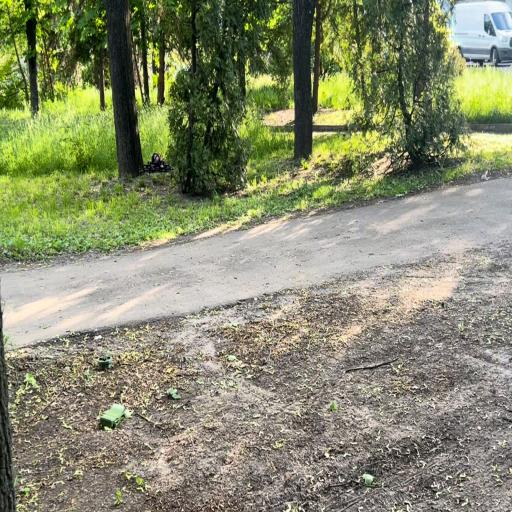drone: (141, 152, 174, 174)
